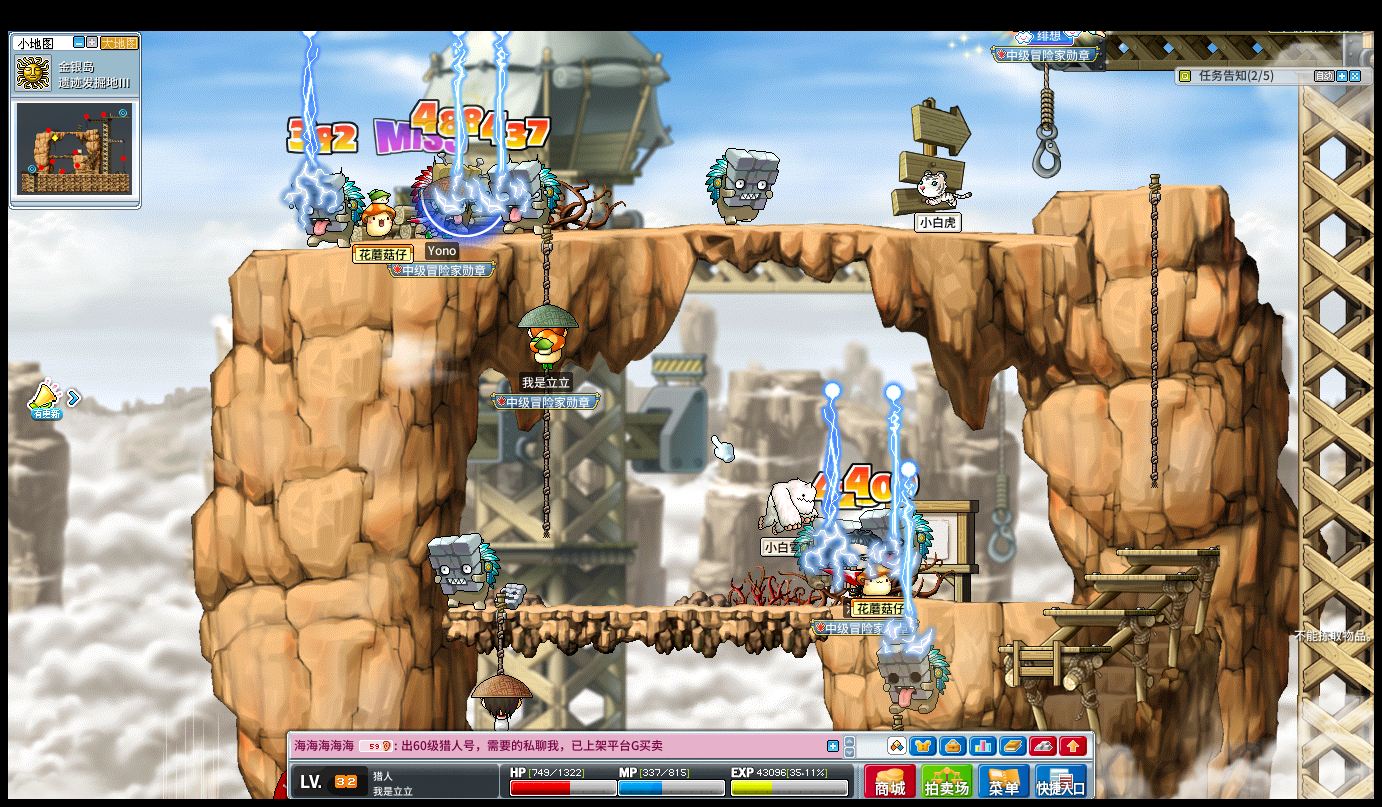floor: (250, 224, 1096, 246), (457, 219, 1087, 247), (447, 602, 827, 616), (1054, 180, 1229, 195), (912, 598, 1079, 609), (1043, 608, 1154, 619), (996, 644, 1110, 654), (1115, 546, 1220, 556), (1078, 573, 1195, 581)
monster: (860, 506, 935, 593), (283, 168, 363, 249), (704, 147, 781, 227), (425, 532, 499, 610), (878, 644, 950, 715), (496, 159, 561, 235), (410, 159, 465, 240), (793, 524, 832, 605)
rope: (1146, 166, 1160, 494), (538, 409, 549, 534), (492, 600, 505, 675), (541, 227, 552, 304)
